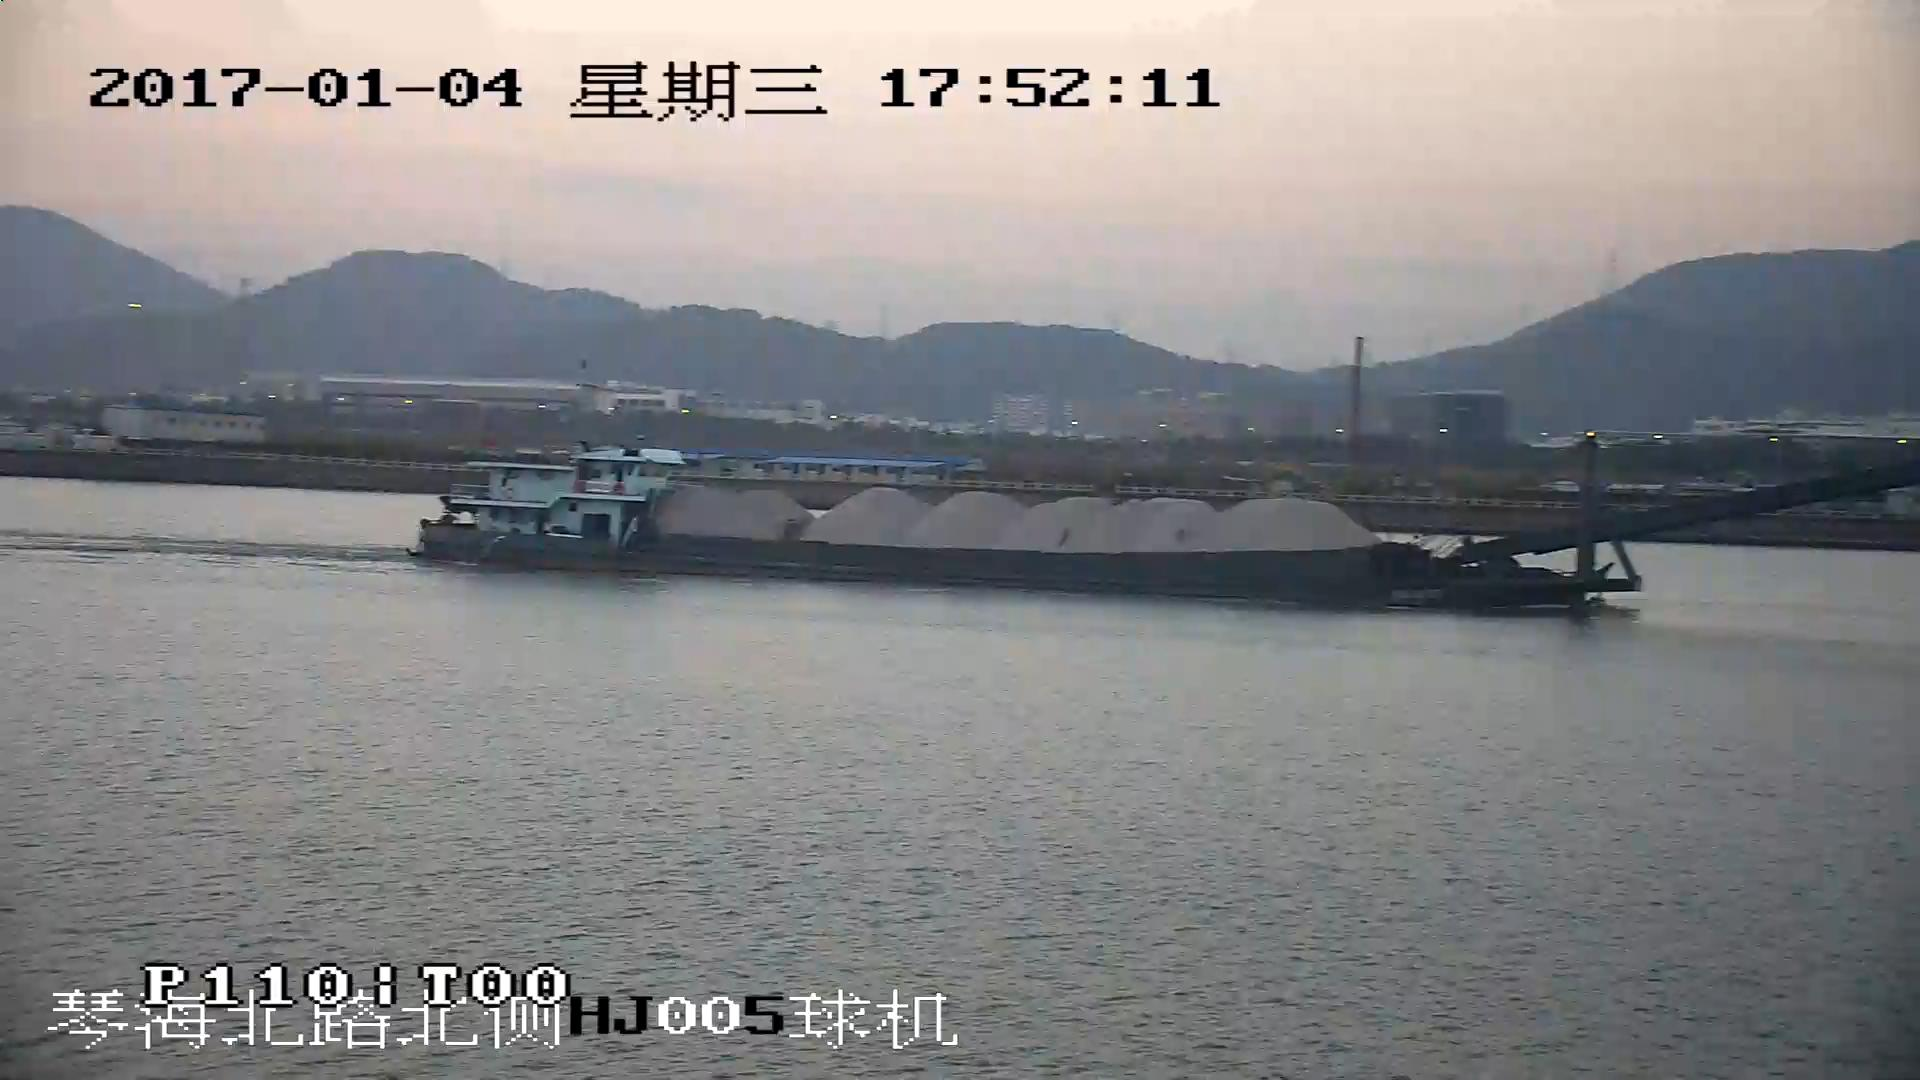ore carrier: (414, 442, 1901, 606)
